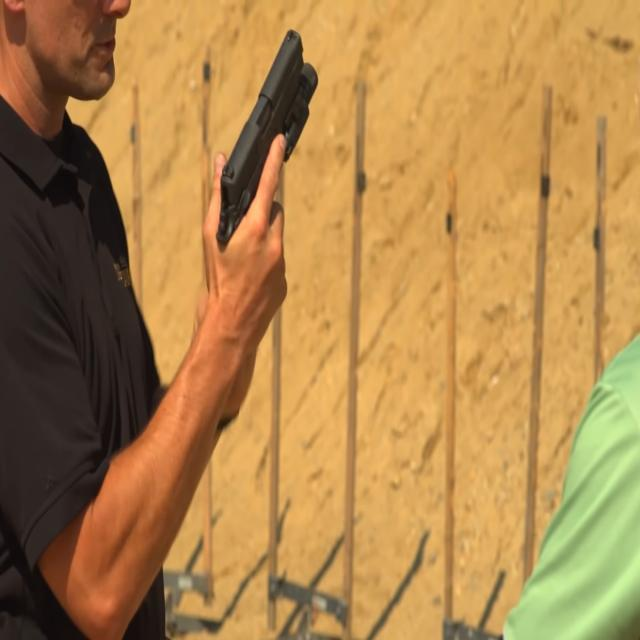Gun_Holder: (201, 35, 330, 342)
Person: (0, 0, 261, 640)
